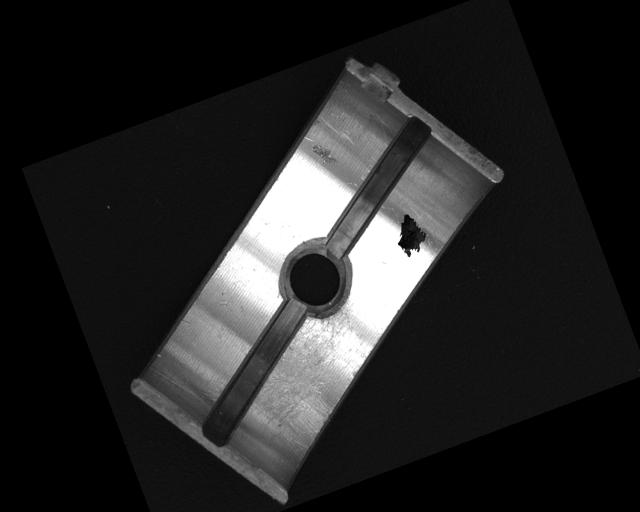blot: (386, 207, 432, 260)
bruise: (309, 138, 340, 171)
gap: (169, 294, 340, 448), (297, 111, 460, 257)
hole: (267, 231, 363, 328)
scratch: (227, 298, 391, 465)
